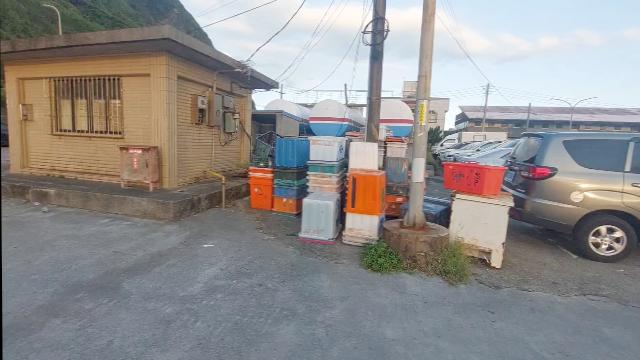pollute: (250, 130, 408, 249), (448, 192, 513, 269), (441, 161, 505, 196)
